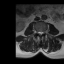CCS_normal: (39, 29, 41, 37)
LFS_normal: (43, 29, 45, 35)
LLS_normal: (41, 29, 43, 36)
RFS_normal: (36, 29, 38, 35)
RLS_normal: (38, 29, 39, 35)
